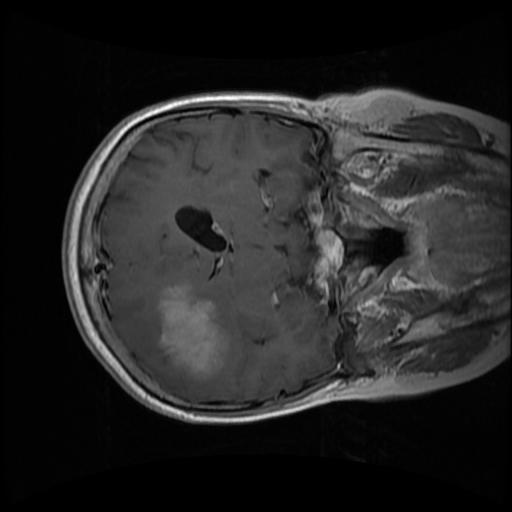meningioma: (159, 284, 230, 379)
